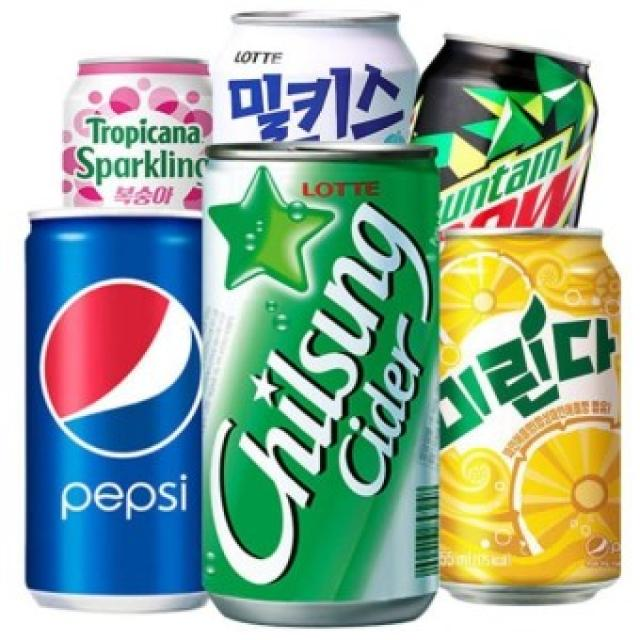can: (198, 34, 442, 624), (26, 212, 205, 626), (444, 224, 628, 606)
